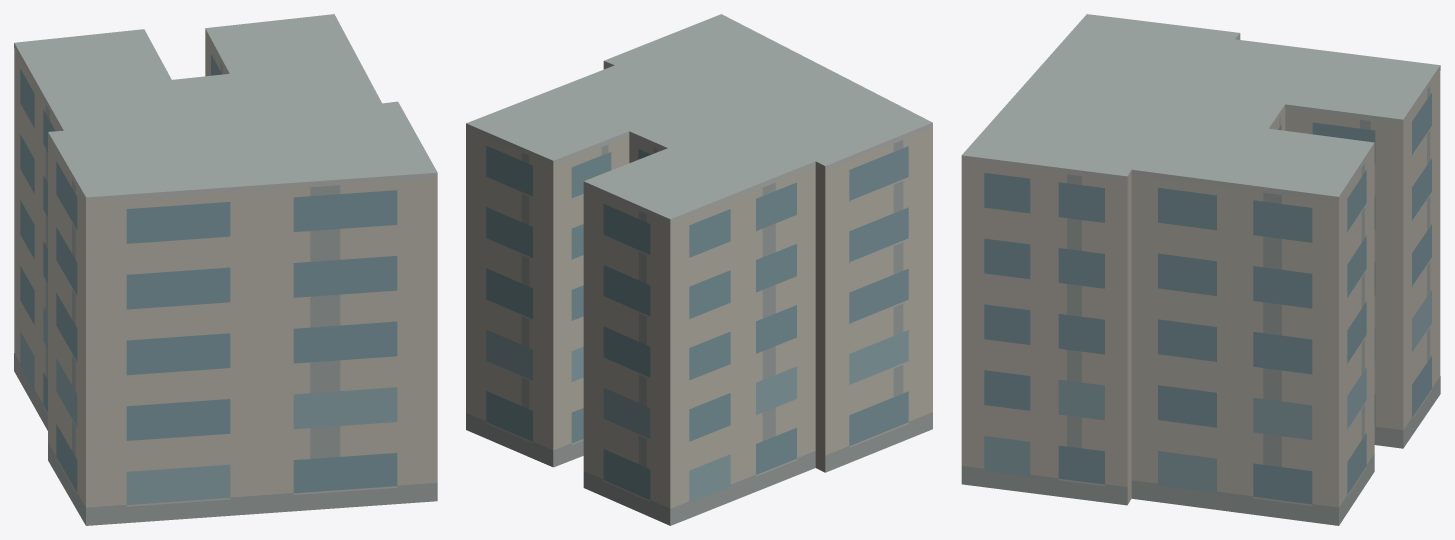
The model's file is survey-upis-32497941.glb.
The picture shows the model from 3 angles, left to right: view 1: azimuth 30°, elevation 25°; view 2: azimuth 150°, elevation 25°; view 3: azimuth 270°, elevation 25°; orthographic projection. The views are drawn at different scales.
Parts seen in each view (by area): view 1: survey-upis-32497941.tmp; view 2: survey-upis-32497941.tmp; view 3: survey-upis-32497941.tmp.
Part boxes in pixels (x1=…): survey-upis-32497941.tmp: x1=14, y1=14, x2=437, y2=525; survey-upis-32497941.tmp: x1=466, y1=14, x2=932, y2=525; survey-upis-32497941.tmp: x1=961, y1=14, x2=1440, y2=525.
Bounding box in the file's own units: 17.06 × 14.3 × 18.87.
